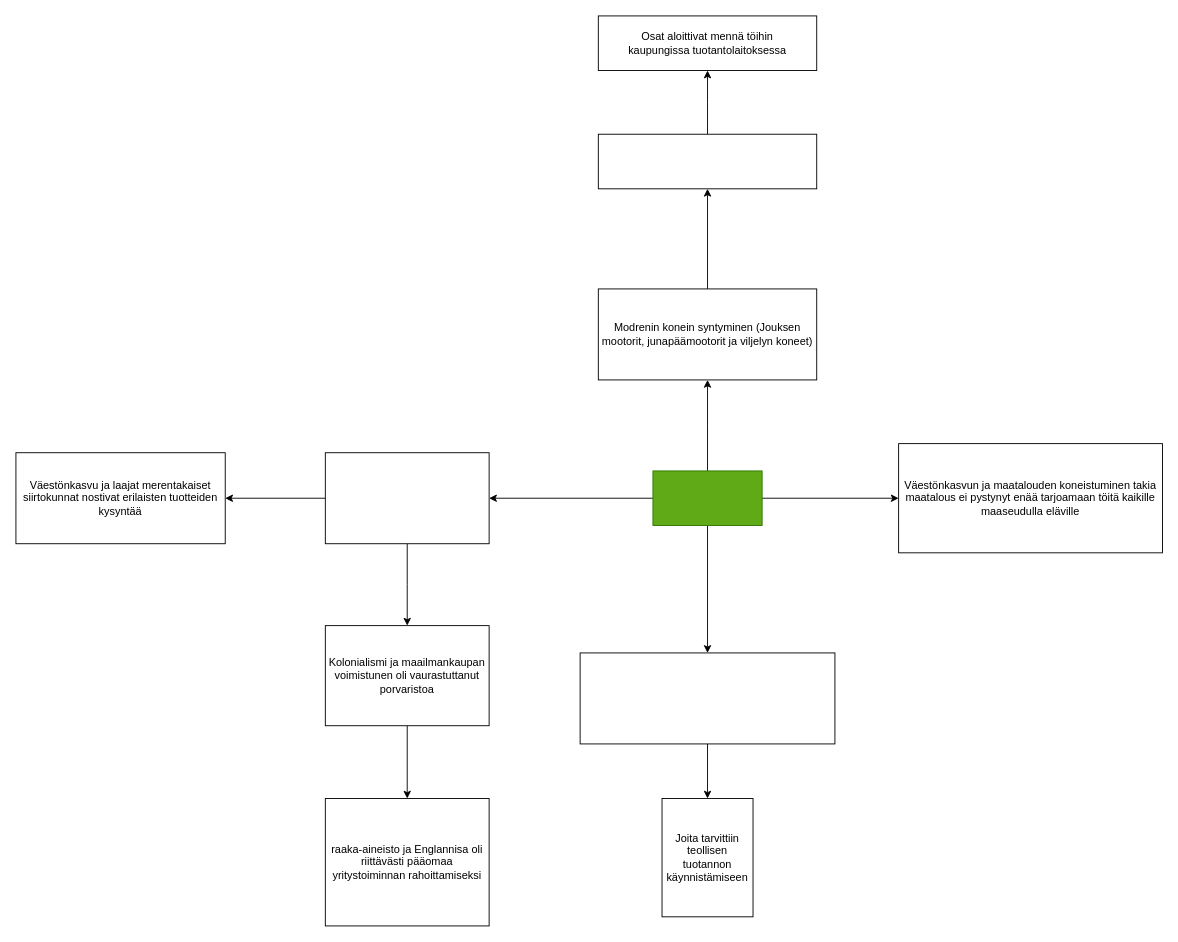
The diagram is 1178 pixels wide and 942 high, and some of its shapes have lost their labels. Here are the shapes that lost their labels. From the top down, the centre of each, then its label:
the point at 707,161: Viljeleminen ei tarvitse niin paljon ihmisiä
the point at 406,498: Englannin teollisuus sai tarvitsemansa työvoiman maaseudun työttömien
the point at 707,498: Miksi teollistuminen alkoi Englannista ?
the point at 707,698: 1700-luvulla Englannissa ja sen kolonialissa ovat tuotannontekijöitä
